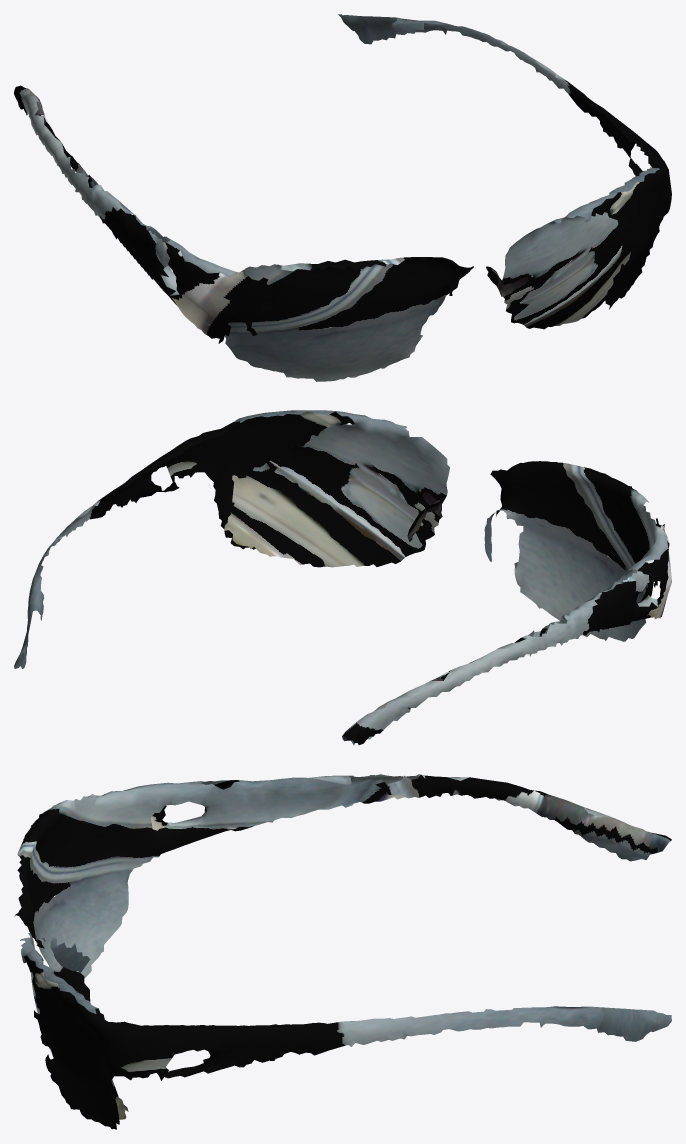
Rendered from scan_align.obj.
3 views of the same model, one above another, from view 1: azimuth 30°, elevation 25°; view 2: azimuth 150°, elevation 25°; view 3: azimuth 270°, elevation 25° (orthographic). The views are drawn at different scales.
Bounding box in the file's own units: 0.1463 × 0.0402 × 0.1597.
